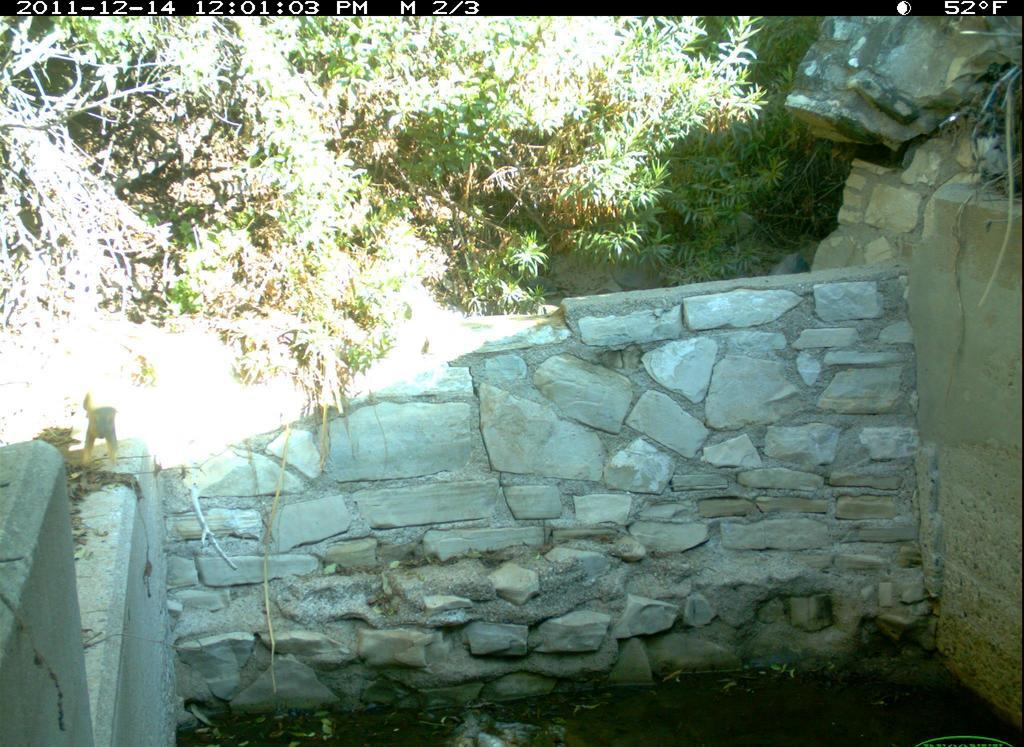squirrel: (73, 382, 128, 471)
